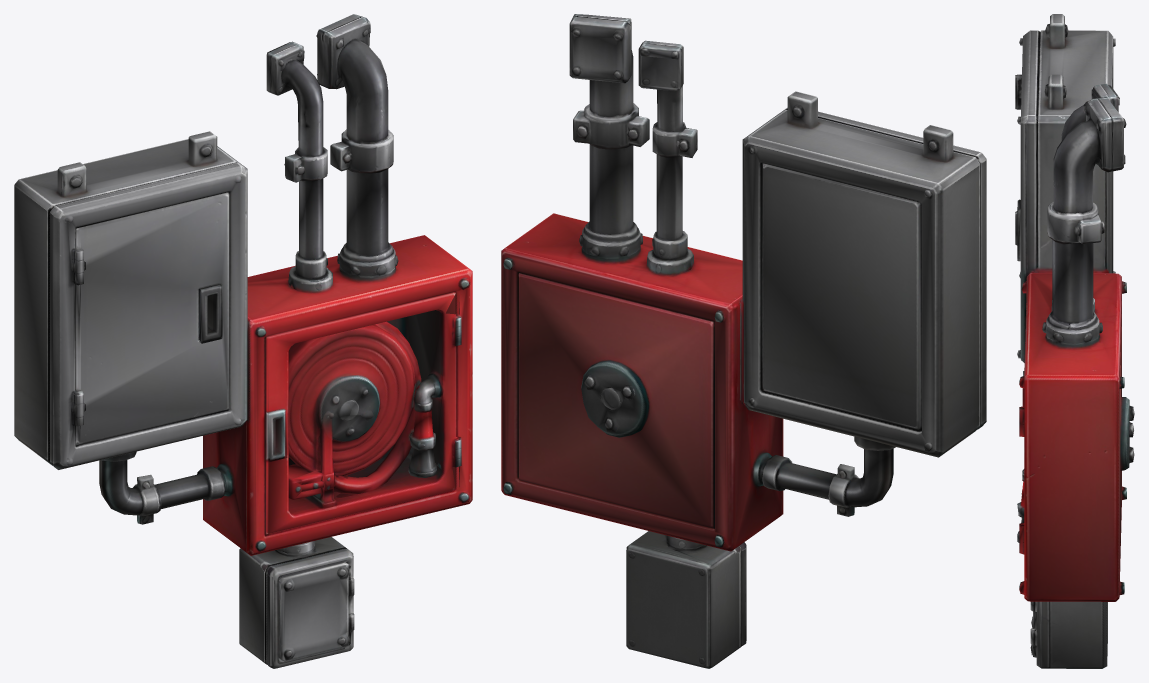
The model's file is overlay_2.fbx.
The picture shows the model from 3 angles, left to right: view 1: azimuth 30°, elevation 25°; view 2: azimuth 150°, elevation 25°; view 3: azimuth 270°, elevation 25°; orthographic projection. The views are drawn at different scales.
Visible parts, largest first — view 1: overlay_2; view 2: overlay_2; view 3: overlay_2.
Boxes of the visible parts, x1,y1,x2,y2 form: overlay_2: (14,14,472,668); overlay_2: (501,14,986,668); overlay_2: (1015,14,1134,668).
Bounding box in the file's own units: 2.9 × 3.95 × 0.7446.
